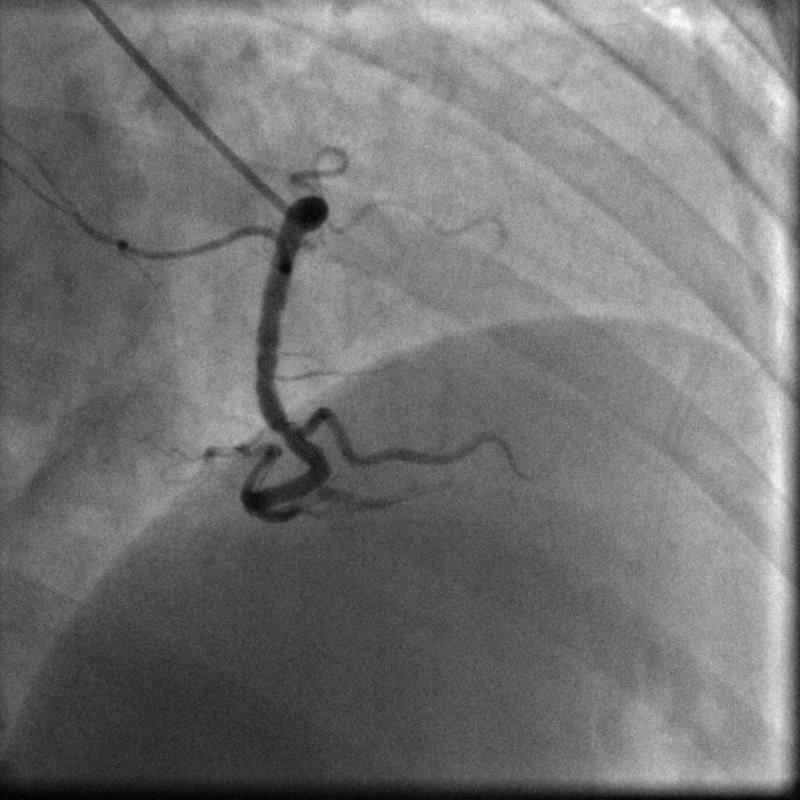Stenosis: (268, 421, 316, 447)
